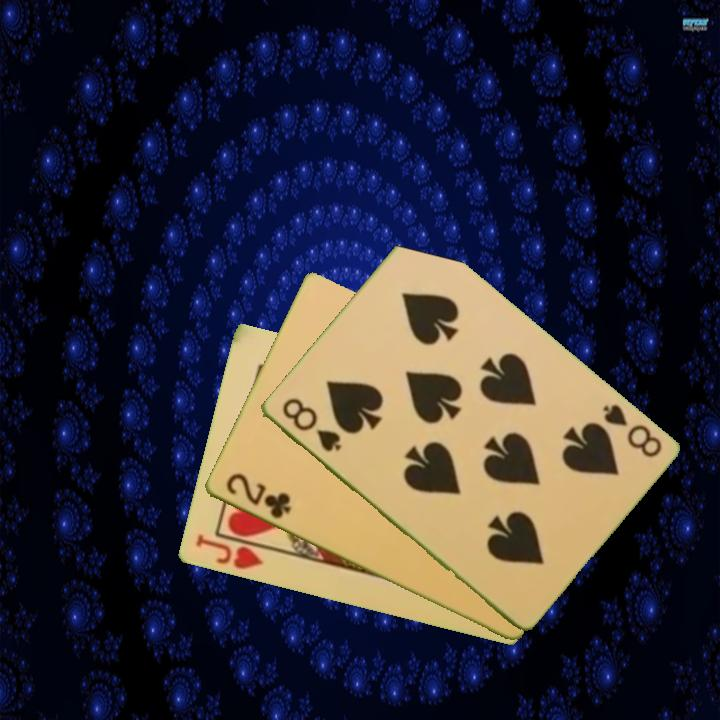2c: (221, 469, 293, 522)
8s: (278, 394, 344, 455), (598, 400, 664, 461)
Jh: (191, 531, 266, 573)
